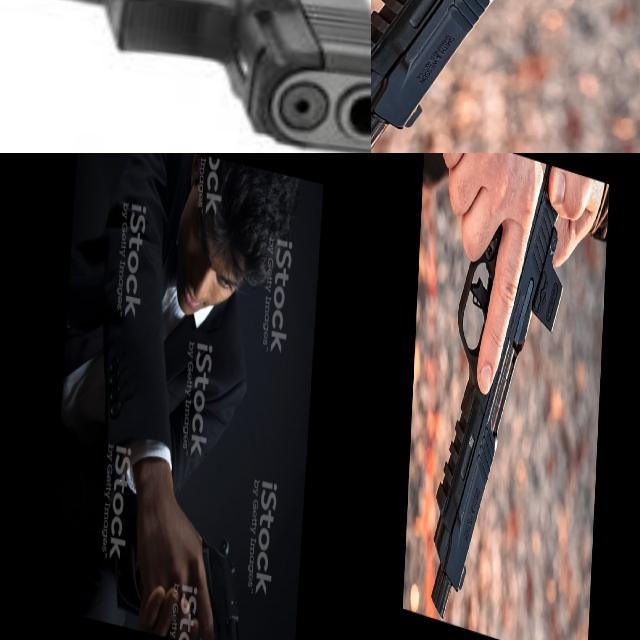handgun: (425, 153, 570, 640), (0, 0, 371, 153), (371, 0, 640, 153), (152, 519, 268, 640)
